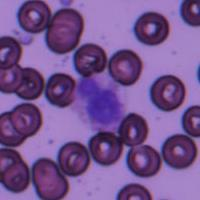N: (70, 74, 127, 132)
